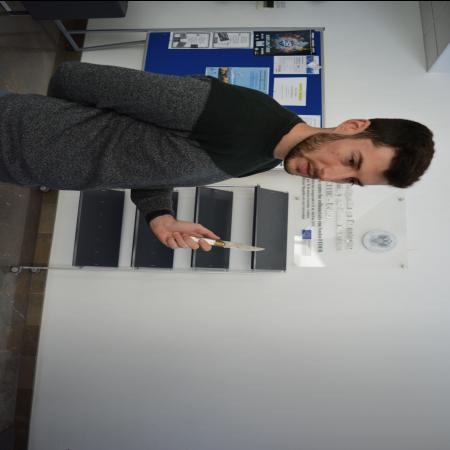long weapon: (184, 231, 268, 253)
